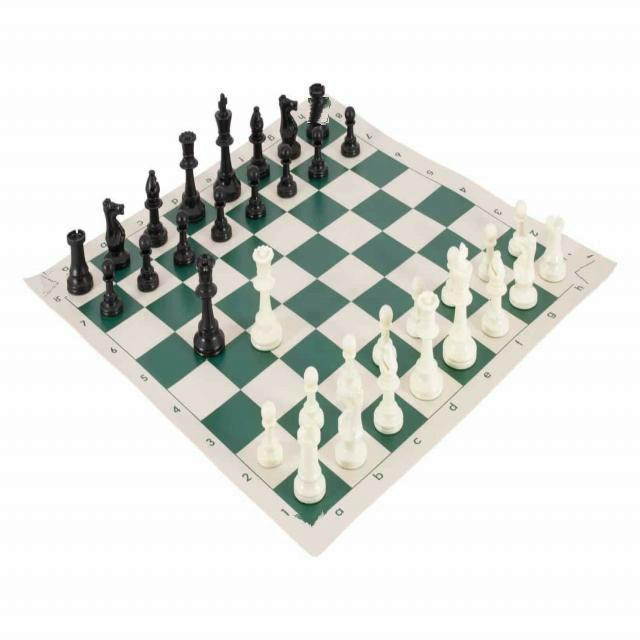chess-table-corners: (568, 255, 598, 284), (293, 509, 327, 534), (41, 271, 67, 298), (307, 97, 330, 124)
